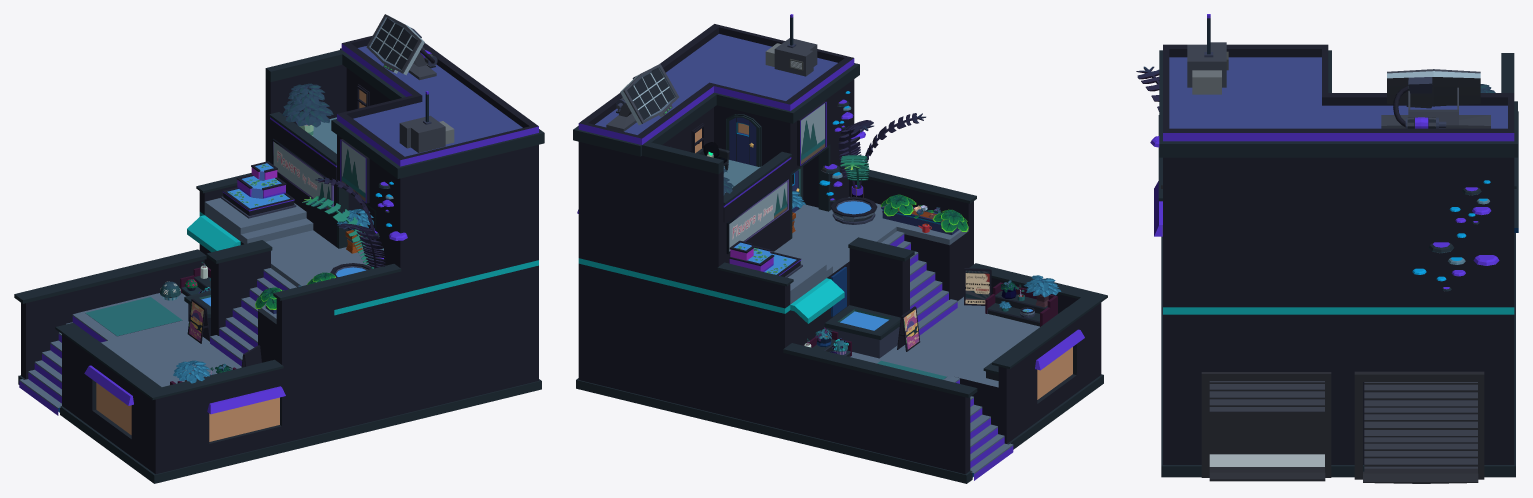
The model's file is FlowersByIrene.fbx.
The picture shows the model from 3 angles, left to right: view 1: azimuth 30°, elevation 25°; view 2: azimuth 150°, elevation 25°; view 3: azimuth 270°, elevation 25°; orthographic projection. The views are drawn at different scales.
Parts seen in each view (by area): view 1: Radar Guy.001, Solar Panel.001, Radar Guy.002, Cube.043, Radar Guy.000, Cube.042, Cylinder.225, Cube.412, Cube.414, Cube.044, Cylinder.220; view 2: Radar Guy.001, Solar Panel.001, Radar Guy.002, Radar Guy.000, Cube.042, Cube.046, Cube.043, Door_Blue.003, Cylinder.007, Cube.045, Cube.413, Cube.044 (+4 smaller); view 3: Radar Guy.001, GarageDoor_Full.000, GarageDoor_Top.002, Solar Panel.001, Cylinder.009, Cylinder.008, Cube.412.
Part boxes in pixels (x1=…): Radar Guy.001: x1=14, y1=35, x2=544, y2=483; Solar Panel.001: x1=366, y1=14, x2=437, y2=80; Radar Guy.002: x1=210, y1=268, x2=296, y2=366; Cube.043: x1=221, y1=161, x2=296, y2=218; Radar Guy.000: x1=19, y1=312, x2=116, y2=415; Cube.042: x1=272, y1=138, x2=333, y2=209; Cylinder.225: x1=282, y1=83, x2=333, y2=127; Cube.412: x1=337, y1=223, x2=385, y2=268; Cube.414: x1=302, y1=196, x2=373, y2=268; Cube.044: x1=187, y1=298, x2=209, y2=343; Cylinder.220: x1=173, y1=360, x2=209, y2=383; Radar Guy.001: x1=573, y1=14, x2=1107, y2=483; Solar Panel.001: x1=606, y1=64, x2=678, y2=131; Radar Guy.002: x1=881, y1=231, x2=957, y2=335; Radar Guy.000: x1=947, y1=376, x2=1013, y2=480; Cube.042: x1=726, y1=179, x2=788, y2=253; Cube.046: x1=985, y1=282, x2=1057, y2=326; Cube.043: x1=729, y1=240, x2=802, y2=277; Door_Blue.003: x1=729, y1=117, x2=756, y2=166; Cylinder.007: x1=831, y1=196, x2=877, y2=224; Cube.045: x1=964, y1=268, x2=991, y2=305; Cube.413: x1=838, y1=120, x2=873, y2=188; Cube.044: x1=897, y1=306, x2=920, y2=351; Radar Guy.001: x1=1154, y1=14, x2=1518, y2=477; GarageDoor_Full.000: x1=1354, y1=371, x2=1484, y2=483; GarageDoor_Top.002: x1=1201, y1=372, x2=1331, y2=481; Solar Panel.001: x1=1381, y1=69, x2=1490, y2=128; Cylinder.009: x1=1412, y1=233, x2=1499, y2=291; Cylinder.008: x1=1449, y1=180, x2=1491, y2=224; Cube.412: x1=1136, y1=66, x2=1159, y2=111.
Size of the model in its own units: 1287 by 949 by 817.
